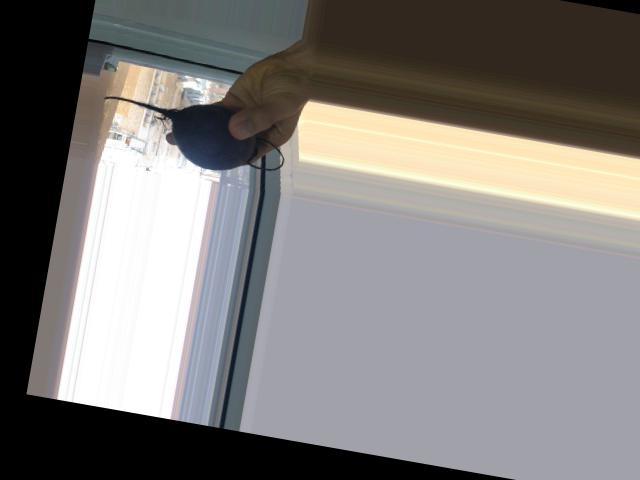beet: (94, 85, 290, 181)
